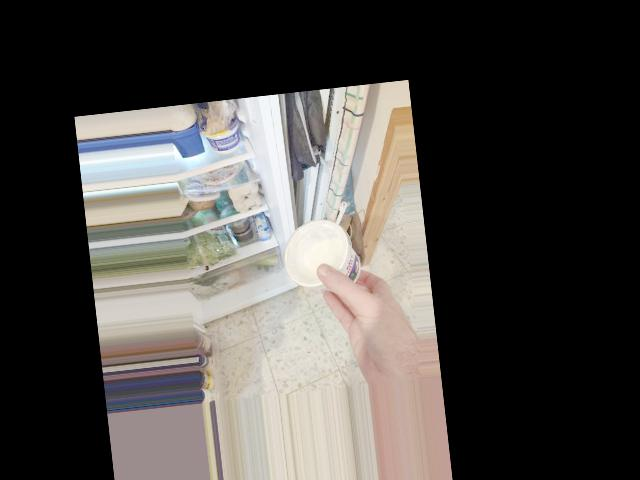cotage: (279, 210, 368, 297)
